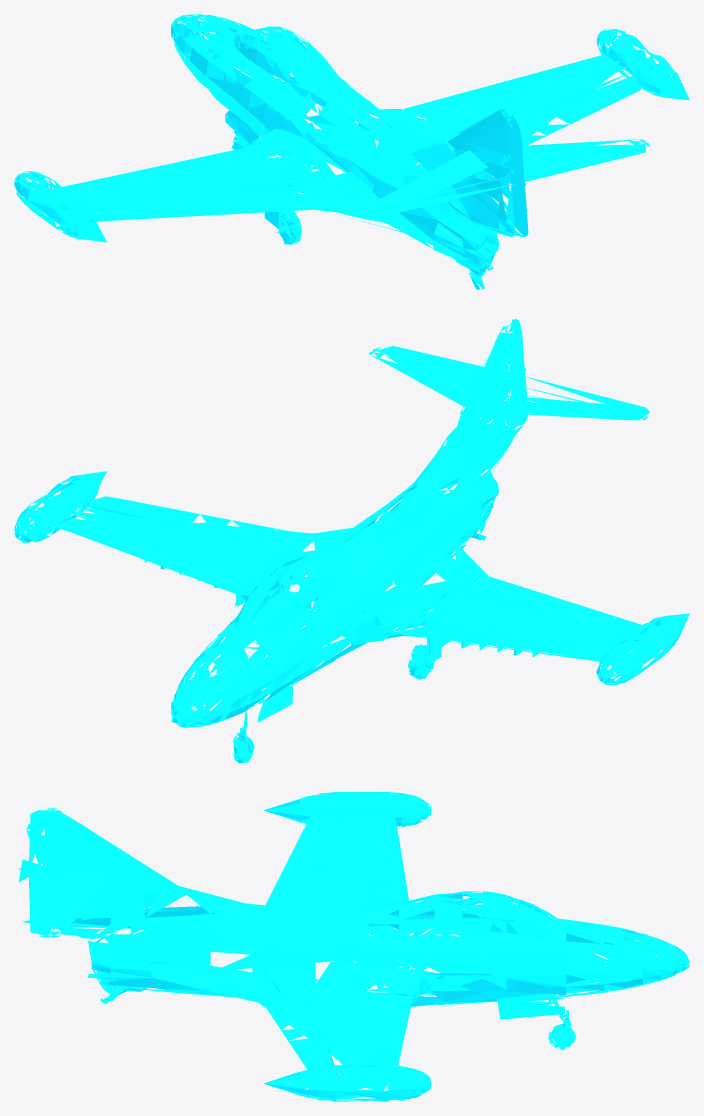
The model's file is PVAF410.glb.
3 renders of one model, top to bottom at view 1: azimuth 30°, elevation 25°; view 2: azimuth 150°, elevation 25°; view 3: azimuth 270°, elevation 25°, orthographic. The views are drawn at different scales.
Visible parts, largest first — view 1: misc; view 2: misc; view 3: misc.
Boxes of the visible parts, bbox=[...] form: misc: bbox=[14, 14, 689, 289]; misc: bbox=[14, 318, 689, 763]; misc: bbox=[18, 792, 689, 1101].
Bounding box in the file's own units: 0.7692 × 0.2954 × 0.761.
